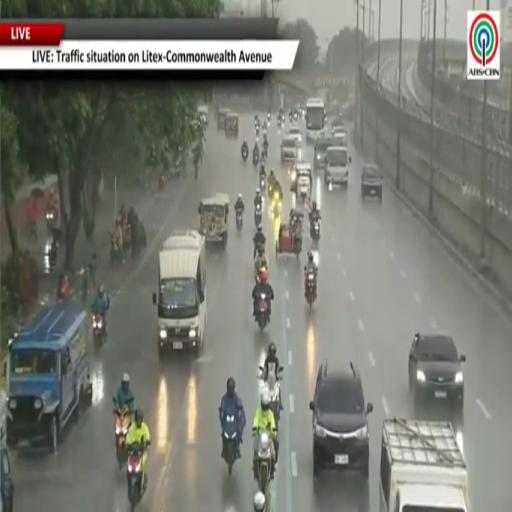bus: (306, 99, 325, 141)
car: (310, 361, 372, 478), (409, 333, 465, 410), (324, 146, 351, 186), (361, 164, 383, 200), (313, 138, 336, 170), (281, 136, 300, 162), (288, 126, 302, 146), (333, 127, 347, 146), (331, 117, 345, 134)
jeepney: (6, 299, 92, 451), (198, 194, 229, 244), (0, 392, 13, 511), (289, 163, 312, 198), (295, 163, 311, 200), (216, 108, 231, 130), (225, 112, 238, 137), (198, 105, 209, 125)
motorcycle: (259, 364, 283, 428), (113, 397, 133, 469), (127, 443, 146, 510), (255, 431, 272, 495), (223, 415, 238, 475), (256, 294, 269, 331), (93, 311, 106, 346), (305, 272, 316, 308), (110, 236, 122, 264), (48, 238, 58, 271), (45, 208, 58, 233), (254, 260, 267, 282), (271, 190, 281, 216), (310, 218, 320, 243), (254, 204, 261, 228), (236, 210, 242, 230), (159, 173, 166, 190), (241, 146, 248, 162), (194, 160, 199, 180), (253, 152, 259, 167), (261, 150, 267, 164), (260, 174, 265, 189), (255, 124, 260, 136), (262, 125, 267, 136), (294, 110, 298, 121), (277, 117, 281, 127), (267, 112, 271, 121)
tricycle: (276, 210, 303, 258)
truck: (380, 419, 468, 511), (153, 230, 206, 357)
